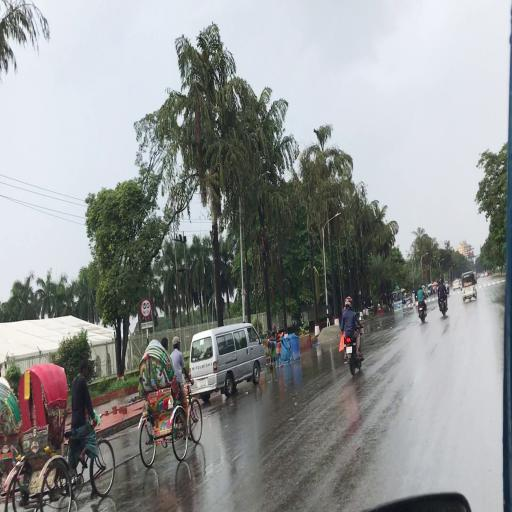car: (453, 279, 460, 292)
motorbike: (342, 295, 366, 379), (416, 286, 429, 325), (438, 279, 449, 319)
rickshaw: (15, 362, 117, 512), (139, 338, 190, 469), (1, 377, 25, 508)
three wheelers (CNG): (462, 271, 479, 305)
van: (191, 323, 268, 402)
